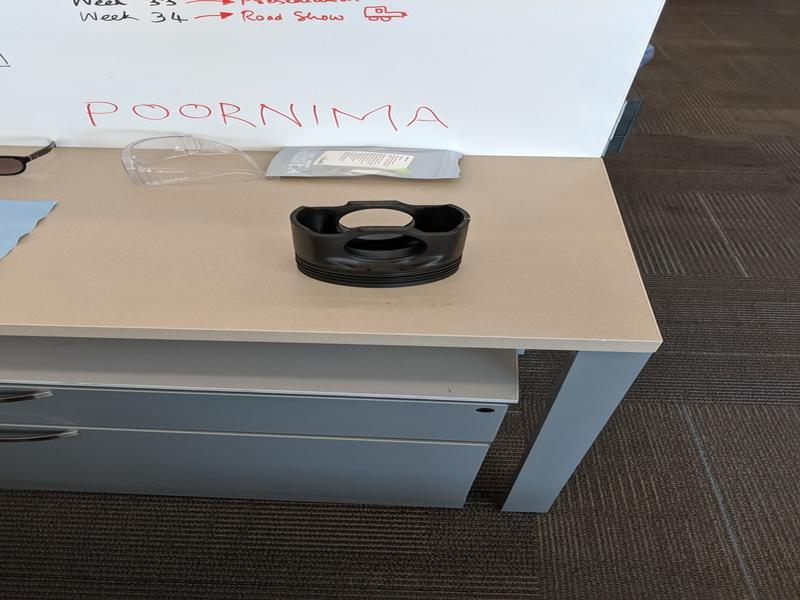piston: (286, 199, 474, 292)
